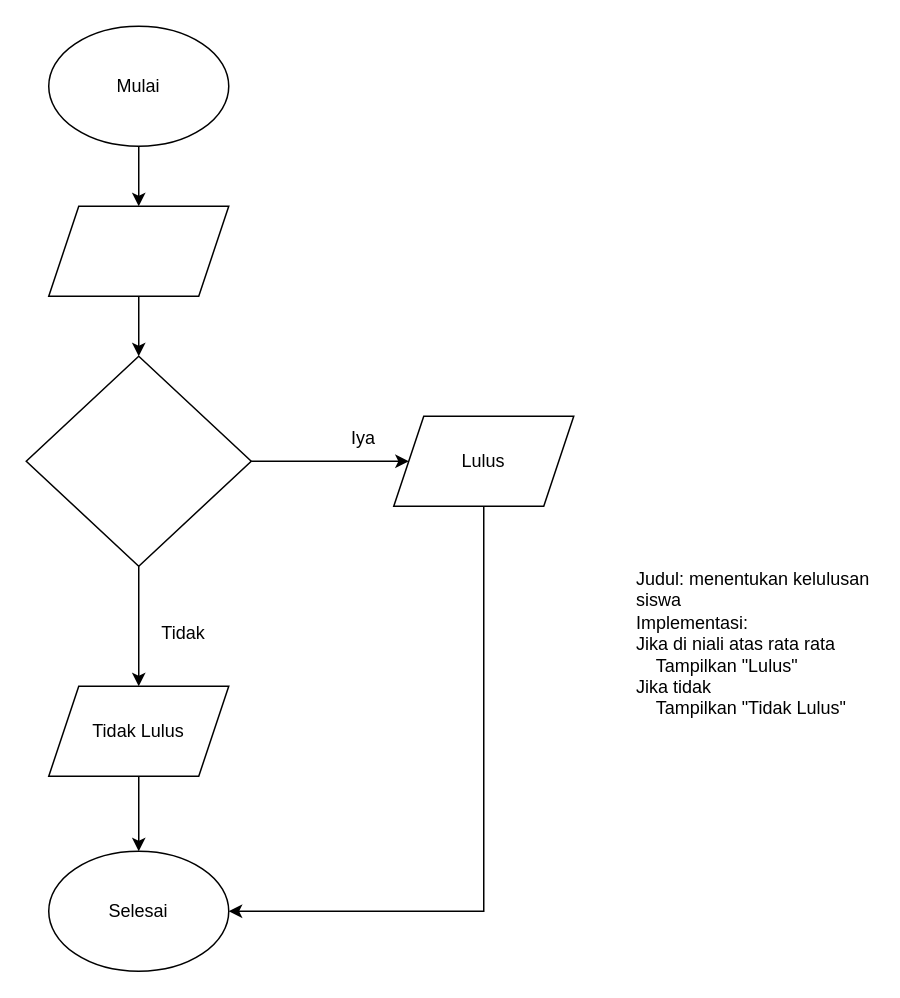
This 900x998 diagram has some shape labels left out. The centre of each missing label's shape, as x and y in pixels:
Masukkan Nilai: pixel 138 250
Nilai Diatas Rata-Rata: pixel 138 460
